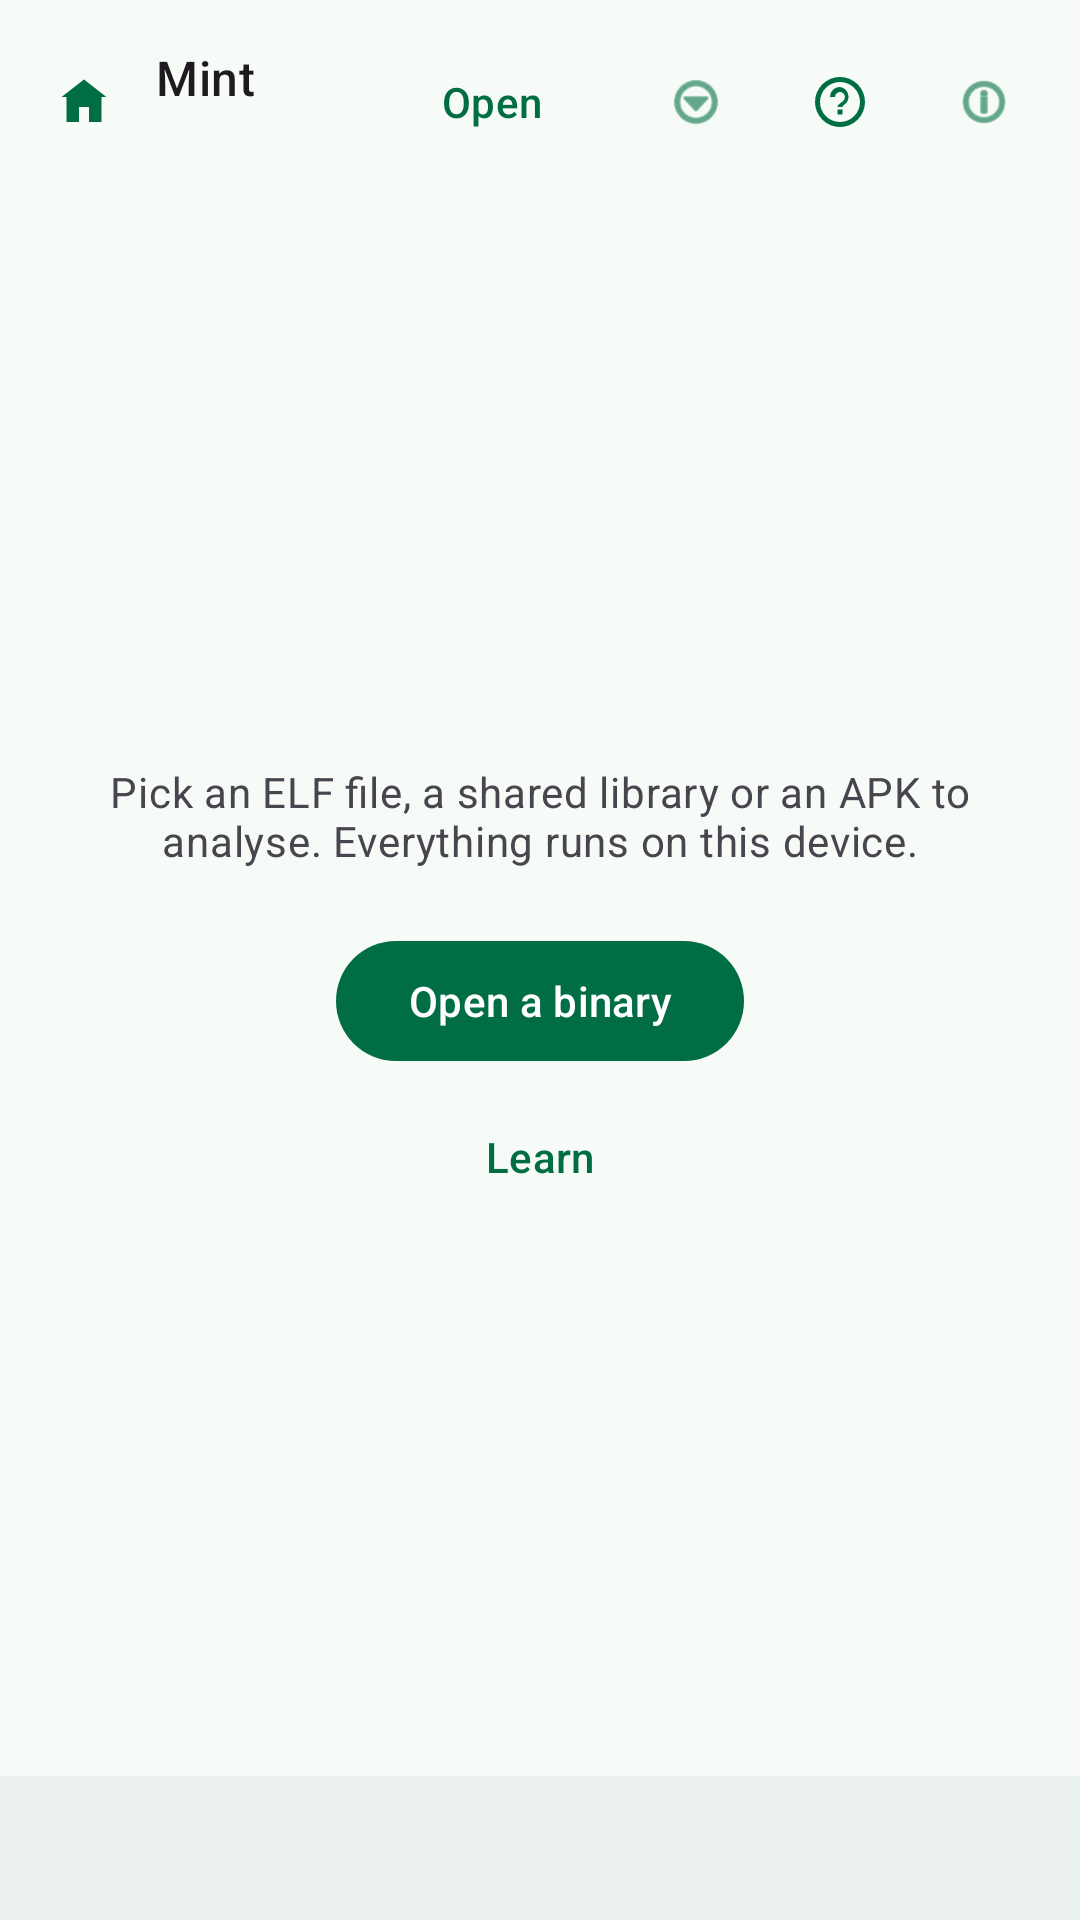

Icons on this 1080px×1920px Android screen, each with its box as (x1, y1, x2, y2):
Help: (815, 77, 865, 127)
Open-source licences: (962, 80, 1006, 124)
Project actions: (674, 80, 718, 124)
Return to start screen: (62, 79, 106, 122)
